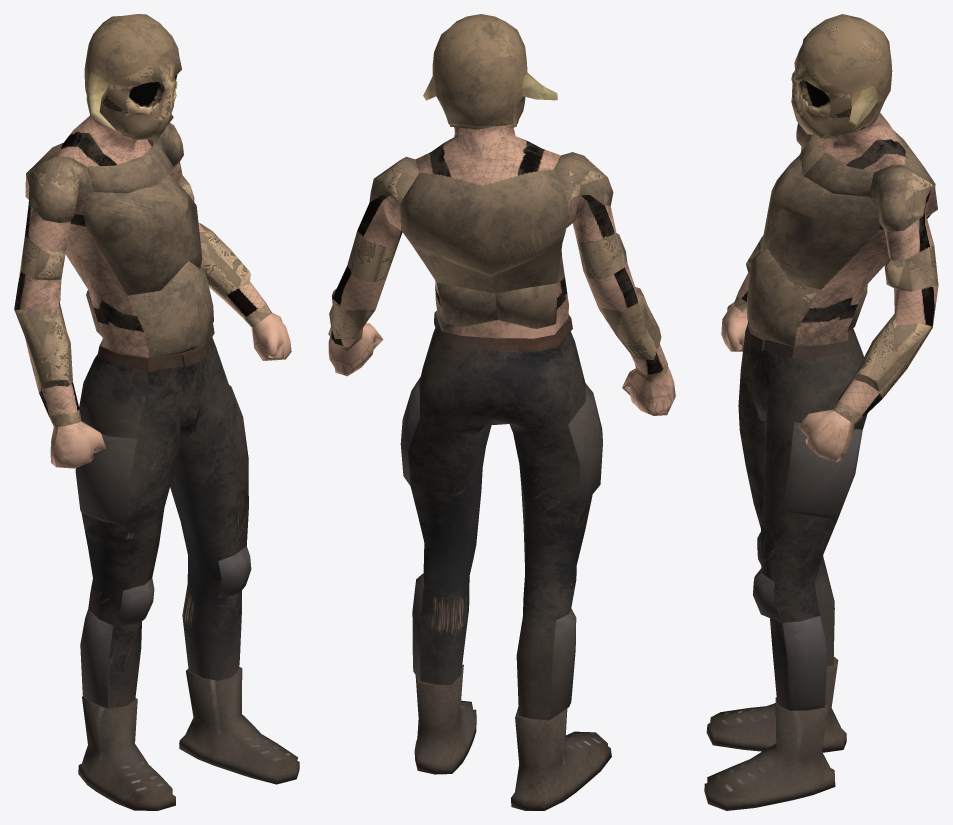
Rendered from Anim_recibirdanyo_npc1.0033.obj.
3 renders of one model, left to right at view 1: azimuth 30°, elevation 25°; view 2: azimuth 150°, elevation 25°; view 3: azimuth 270°, elevation 25°, orthographic. The views are drawn at different scales.
Parts seen in each view (by area): view 1: NPC2; view 2: NPC2; view 3: NPC2.
Part boxes in pixels (<box>): NPC2: <box>14,14,299,810</box>; NPC2: <box>328,14,675,810</box>; NPC2: <box>704,14,938,810</box>.
Bounding box in the file's own units: 3.81 × 9.54 × 2.72.
